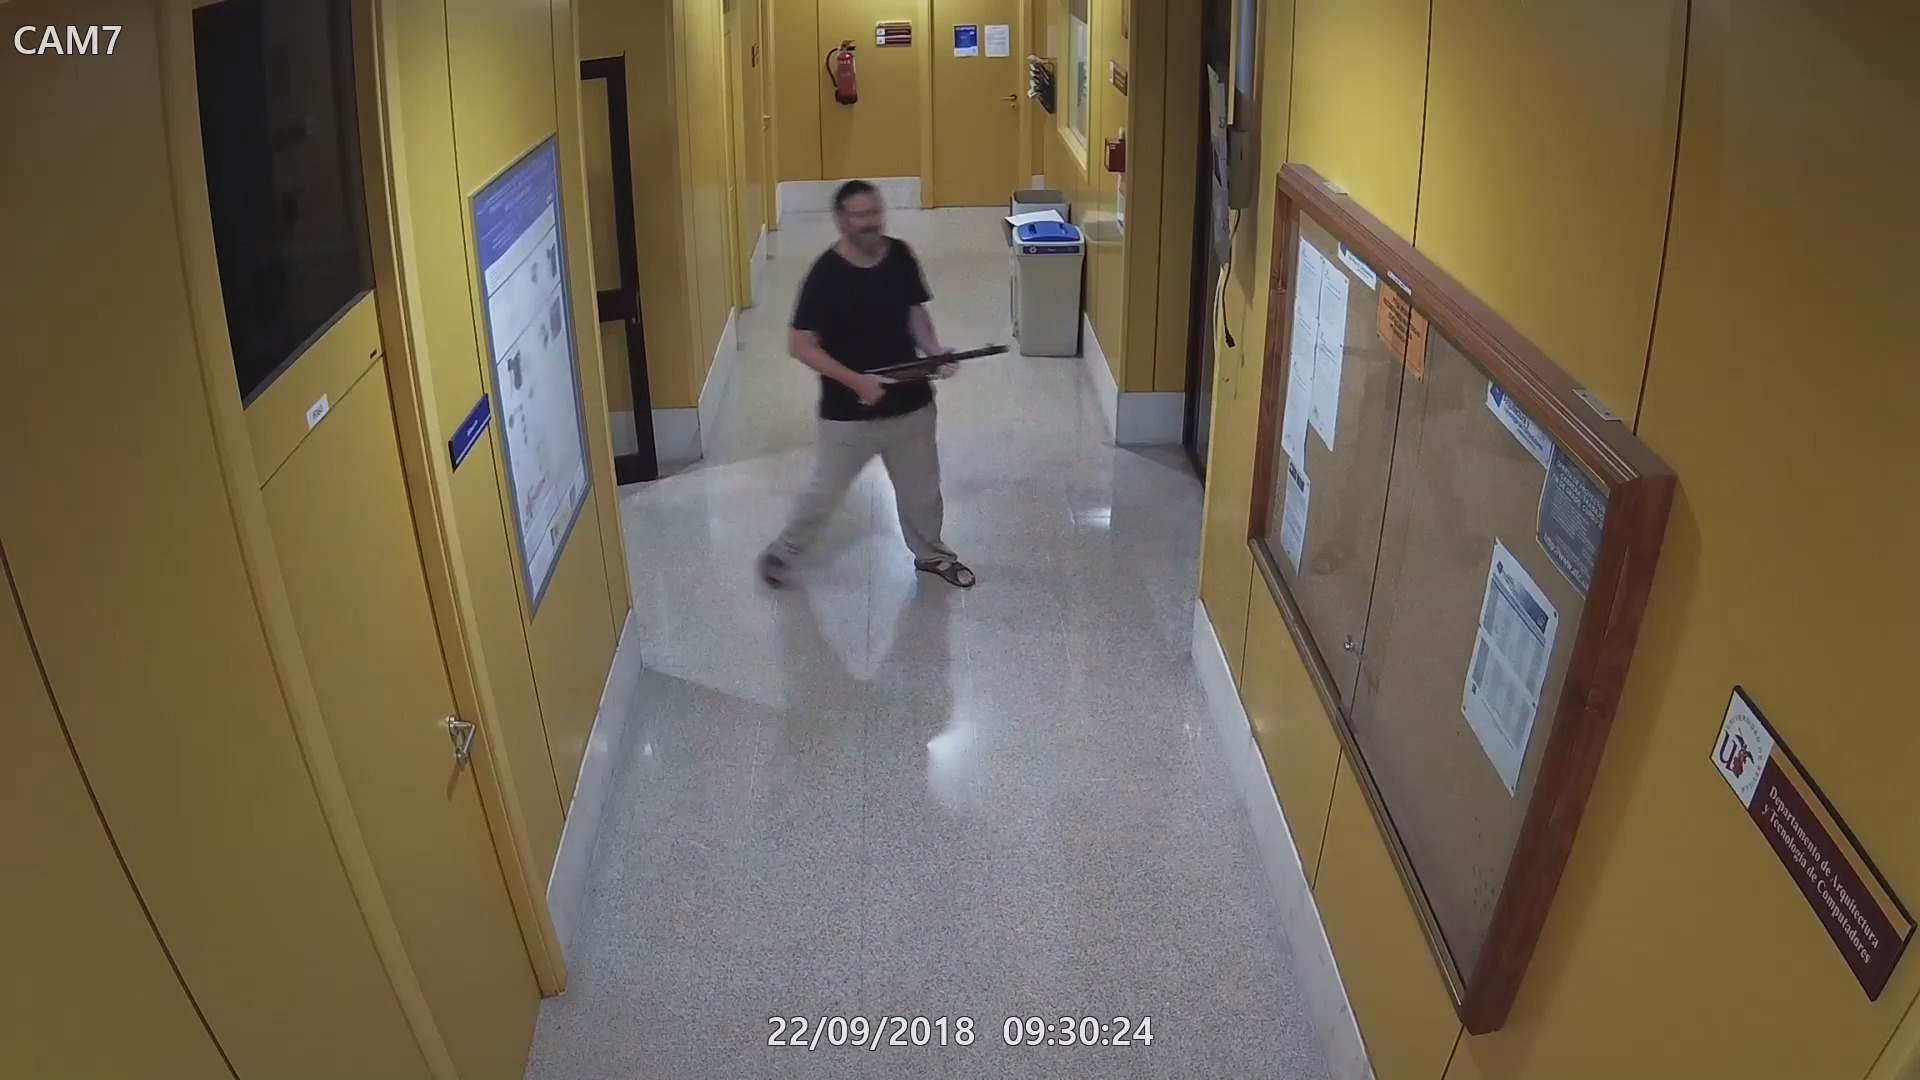Short_rifle: (839, 339, 1019, 404)
